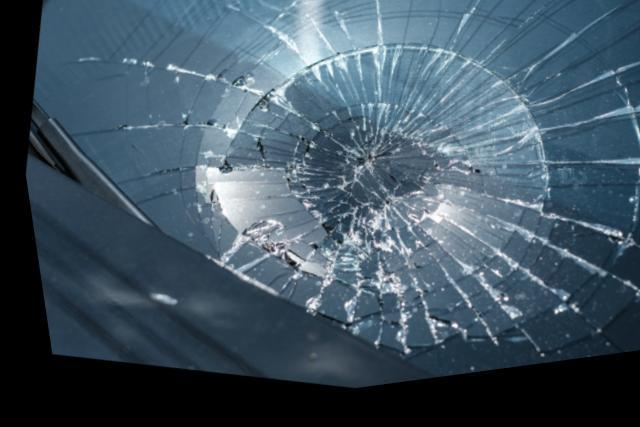glass shatter: (30, 0, 640, 389)
